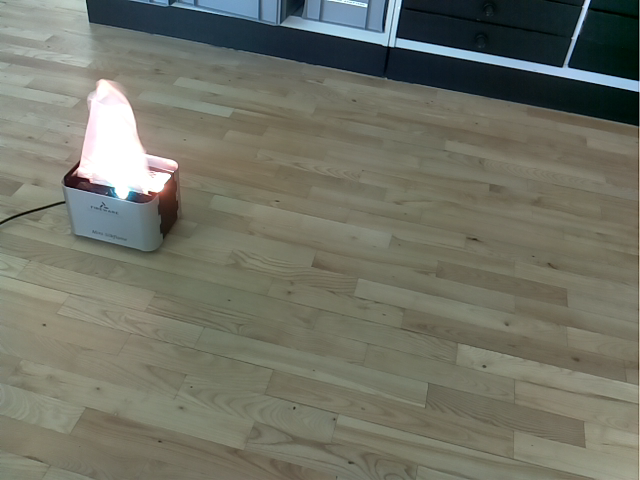fire: (77, 78, 162, 195)
